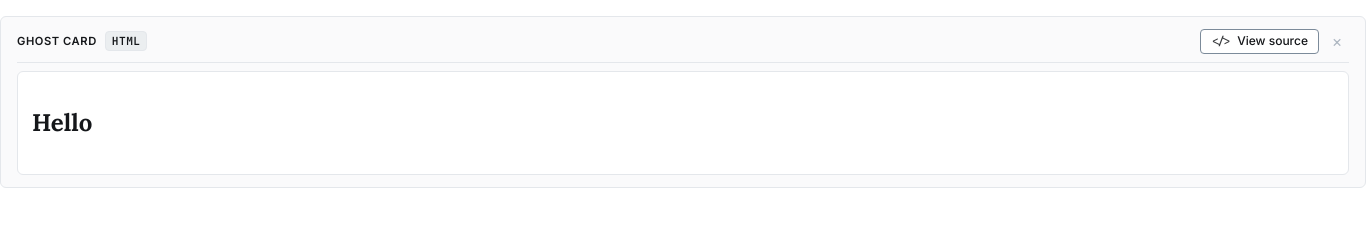
Test case: GhostCardNode HTML decorator › toggles between the preview and the editable raw HTML source
Click the button "</> View source".
click(1260, 41)  # box [1200, 29, 1319, 54]
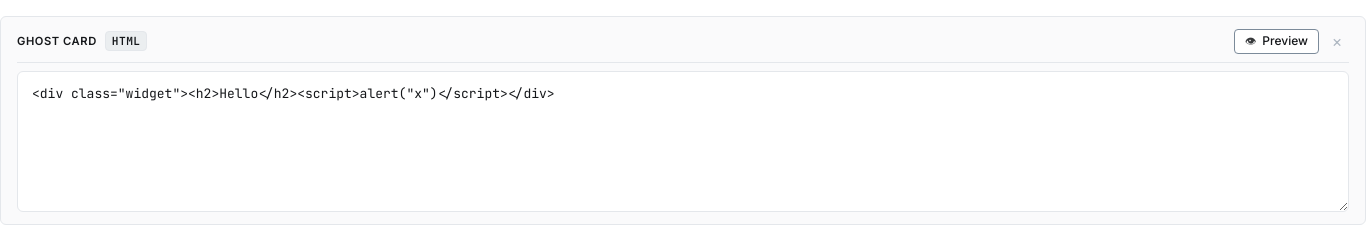
Expected: the text box with class "ghost-card-html-editor" holds "<div class=\"widget\"><h2>Hello</h2><script>alert(\"x\")</script></div>", [17, 71, 1349, 212]
Expected: the element with class "ghost-card-html-content" is gone
Click the button "👁 Preview".
click(1276, 41)  # box [1234, 29, 1319, 54]
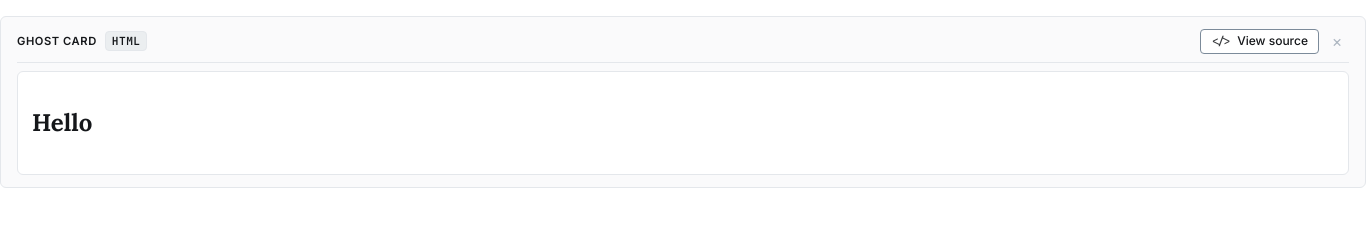
Expected: the text box with class "ghost-card-html-editor" is gone
Expected: the element with class "ghost-card-html-content" is shown, [17, 71, 1349, 175]
